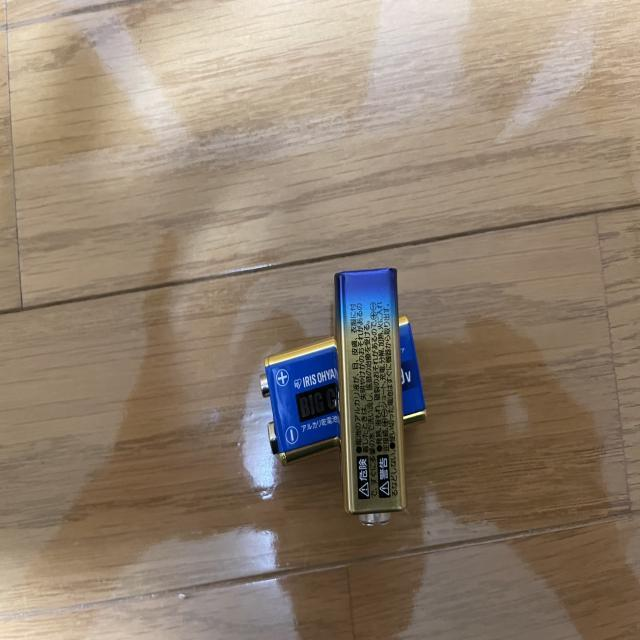9V: (259, 315, 429, 465), (332, 267, 407, 527)
